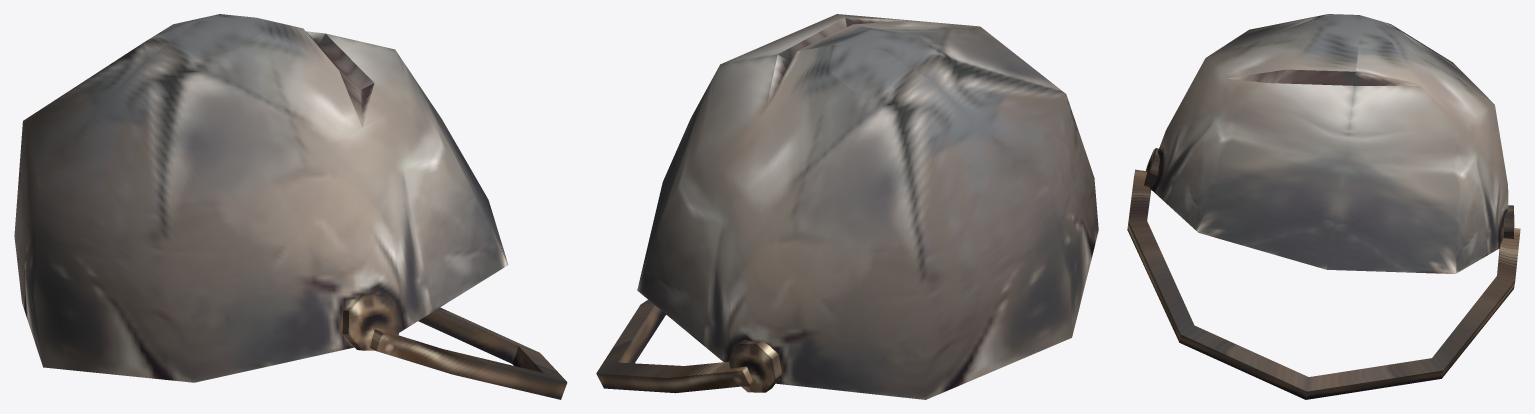
File: Helmet_Grade_01.glb
The picture shows the model from 3 angles, left to right: view 1: azimuth 30°, elevation 25°; view 2: azimuth 150°, elevation 25°; view 3: azimuth 270°, elevation 25°; orthographic projection. The views are drawn at different scales.
Parts seen in each view (by area): view 1: Helmet_Grade_01; view 2: Helmet_Grade_01; view 3: Helmet_Grade_01.
Boxes of the visible parts, <box> form: Helmet_Grade_01: <box>14,14,567,399</box>; Helmet_Grade_01: <box>596,14,1098,399</box>; Helmet_Grade_01: <box>1127,14,1520,399</box>.
Bounding box in the file's own units: 4 × 3.1 × 3.94.
1 material, 1 textured.
